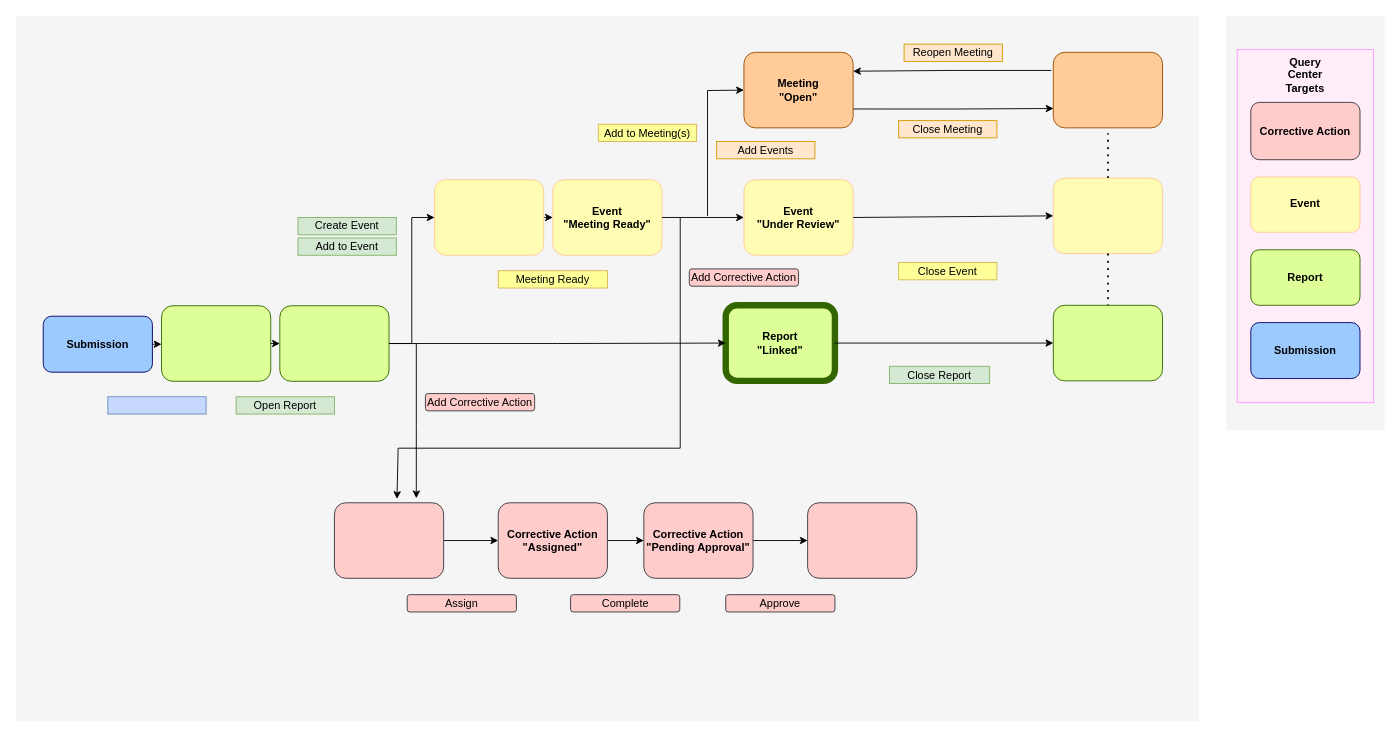
Some shapes in this 1400 by 736 pixel diagram are drawn without their labels. Each missing label, with the centre of its shape:
Corrective Action "Completed": point 862,540
Corrective Action "New": point 389,540
Event "Closed": point 1107,215
Event "New": point 489,217
Meeting "Closed": point 1107,89
Report "Closed": point 1107,342
Report "New": point 216,343
Report "Open": point 334,343
Submit: point 156,405
